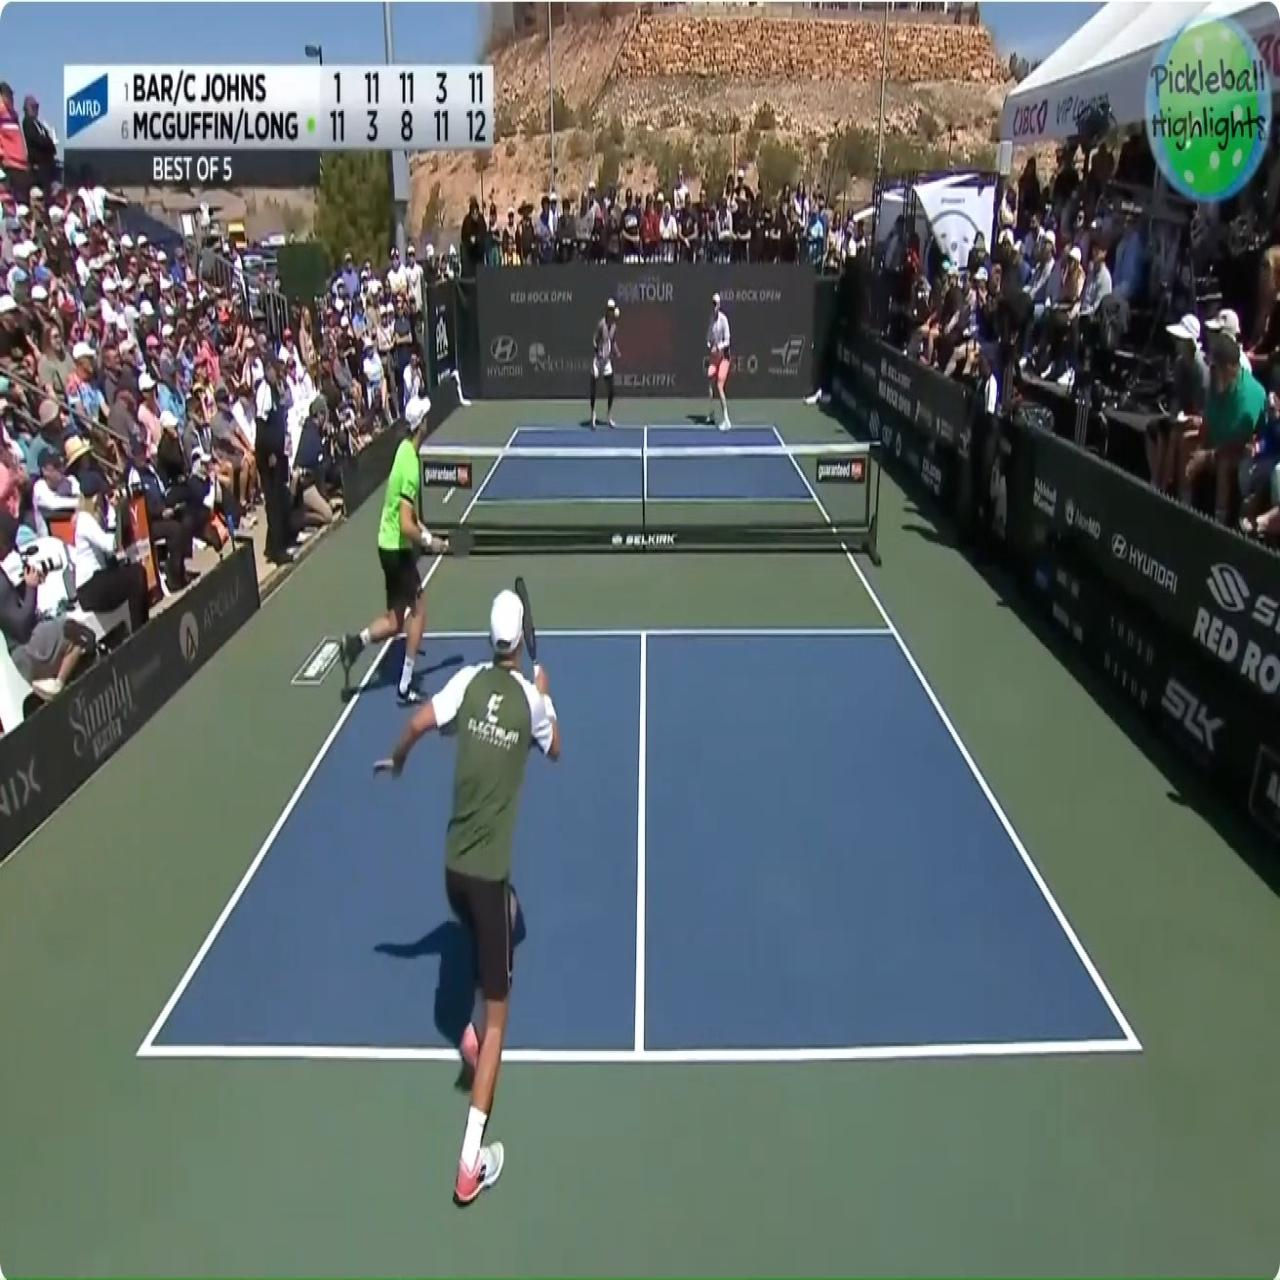pickleball: (613, 307, 620, 318)
